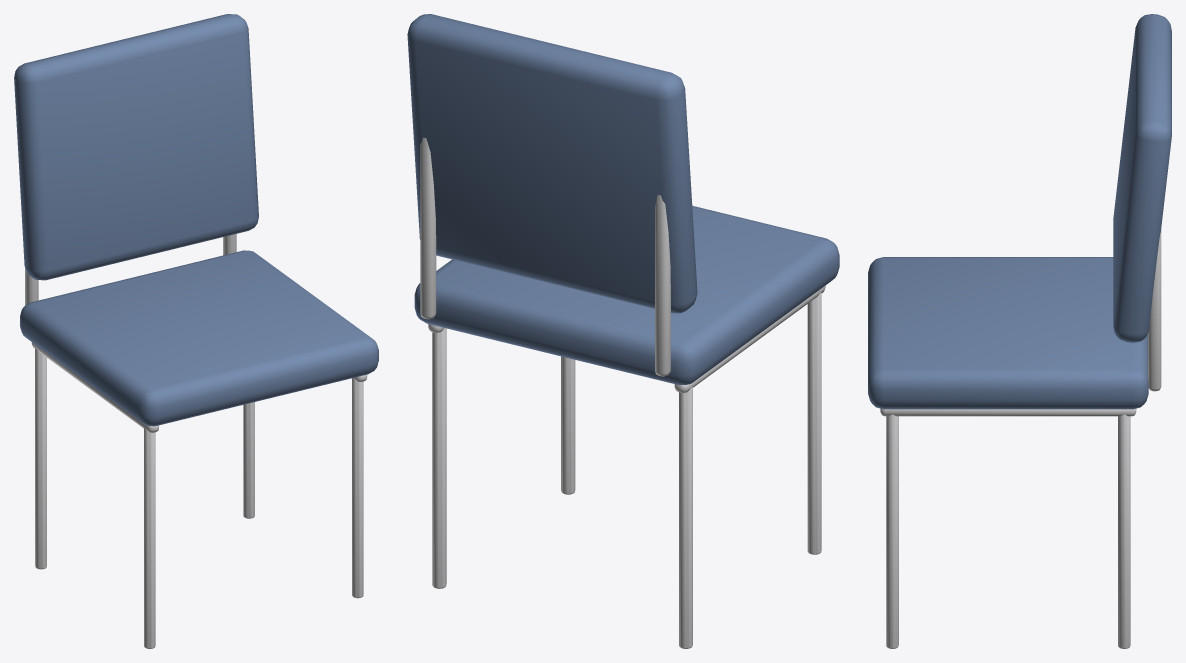
File: conference_chair.glb
3 views of the same model, side by side, from view 1: azimuth 30°, elevation 25°; view 2: azimuth 150°, elevation 25°; view 3: azimuth 270°, elevation 25° (orthographic). The views are drawn at different scales.
Visible parts, largest first — view 1: Cube, Cube.002; view 2: Cube, Cube.002; view 3: Cube, Cube.002.
Part boxes in pixels (x1,y1,x2,y2): Cube: (14, 14, 378, 426); Cube.002: (25, 234, 367, 648); Cube: (407, 14, 839, 385); Cube.002: (420, 137, 825, 648); Cube: (868, 14, 1171, 409); Cube.002: (880, 229, 1161, 648).
Bounding box in the file's own units: 0.48 × 0.9494 × 0.4981.
